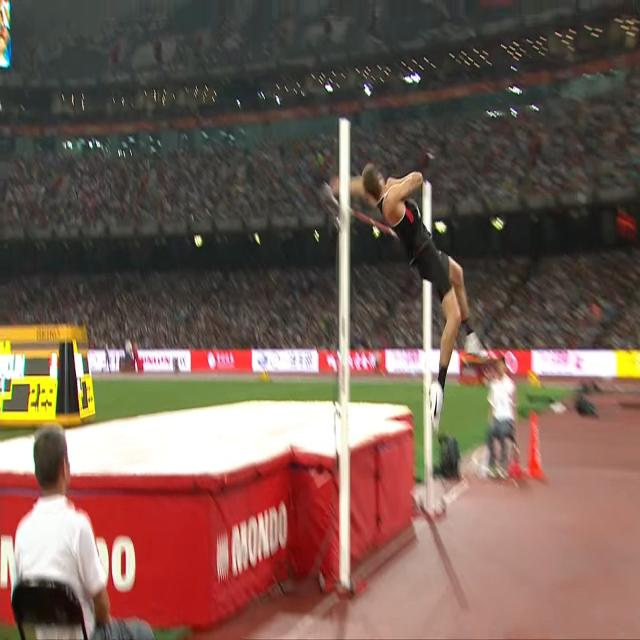jump: (331, 163, 487, 430)
